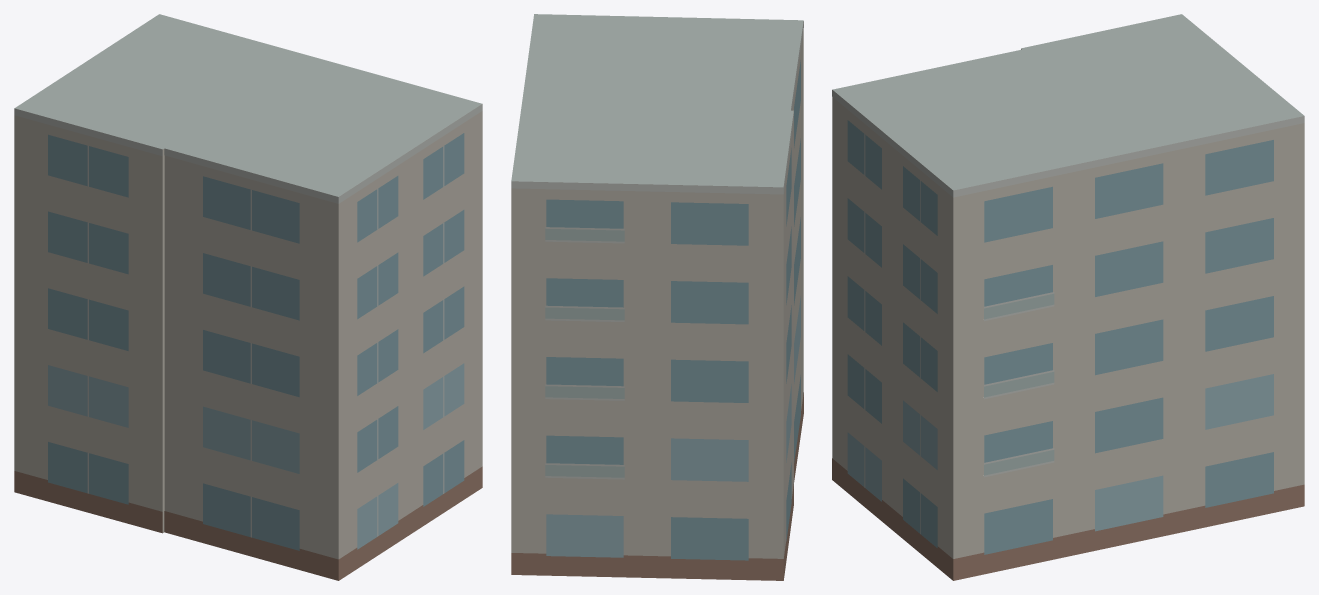
File: survey-upis-32839465.glb
3 renders of one model, left to right at view 1: azimuth 30°, elevation 25°; view 2: azimuth 150°, elevation 25°; view 3: azimuth 270°, elevation 25°, orthographic. The views are drawn at different scales.
Parts seen in each view (by area): view 1: survey-upis-32839465.tmp; view 2: survey-upis-32839465.tmp; view 3: survey-upis-32839465.tmp.
Boxes of the visible parts, <box> form: survey-upis-32839465.tmp: <box>14,14,482,580</box>; survey-upis-32839465.tmp: <box>511,14,803,580</box>; survey-upis-32839465.tmp: <box>832,14,1304,580</box>.
Bounding box in the file's own units: 13.12 × 13.52 × 14.84.
